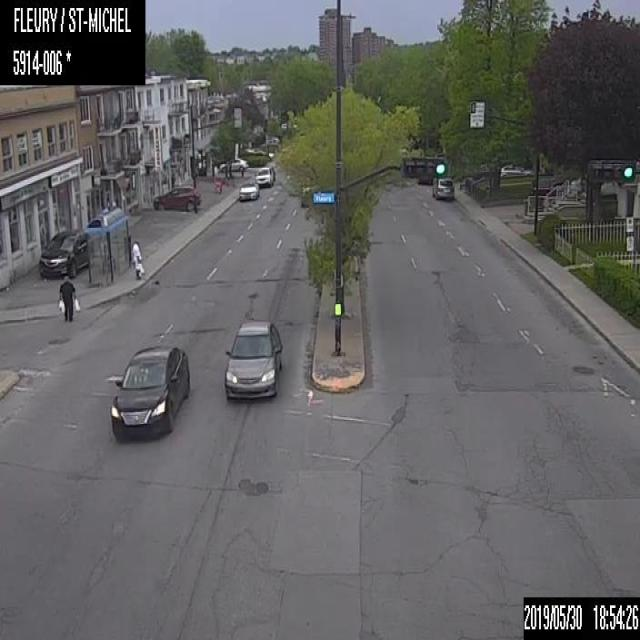pedestrian: (56, 274, 80, 322), (130, 237, 144, 279)
vehicle: (108, 344, 190, 443), (222, 319, 282, 400), (37, 225, 92, 277), (152, 182, 201, 211), (429, 175, 456, 201), (237, 178, 259, 202), (219, 157, 249, 170), (255, 165, 273, 186)
